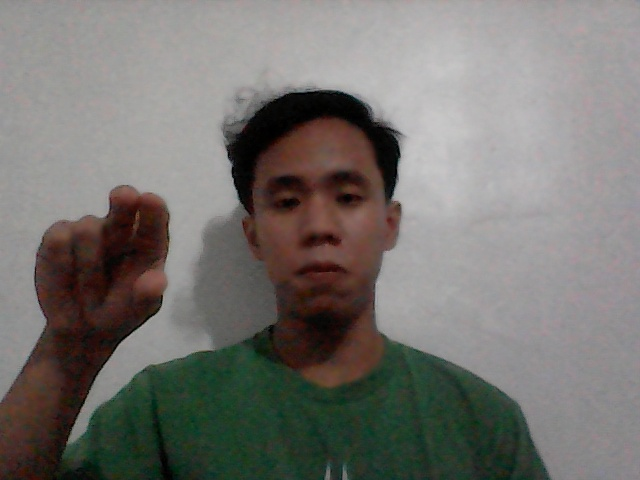No: (14, 164, 201, 353)
